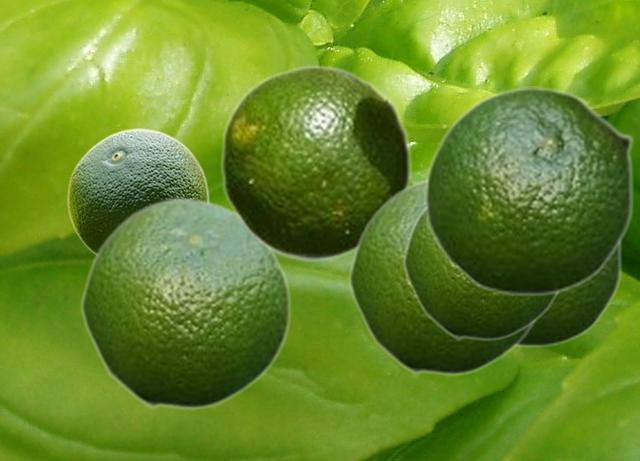calamansi: (79, 195, 291, 409), (424, 86, 634, 296), (347, 175, 540, 375), (219, 64, 412, 260), (402, 207, 559, 340), (67, 128, 208, 254), (517, 243, 622, 347)
